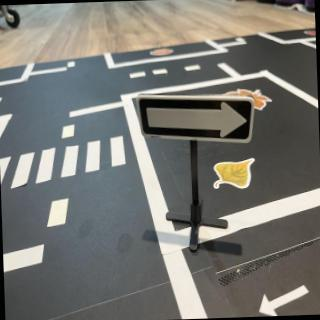road_crosswalk: (1, 131, 132, 197)
road_oneway: (254, 271, 317, 317)
sign_oneway_right: (139, 92, 261, 148)
